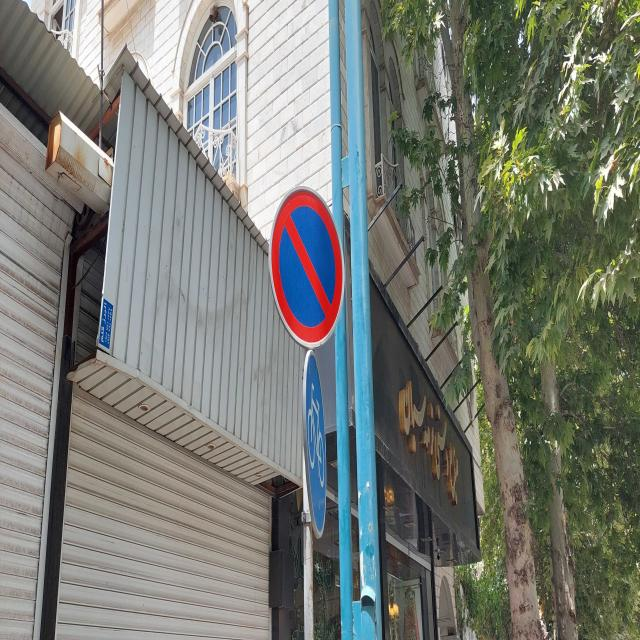forb_stopping: (270, 188, 344, 348)
